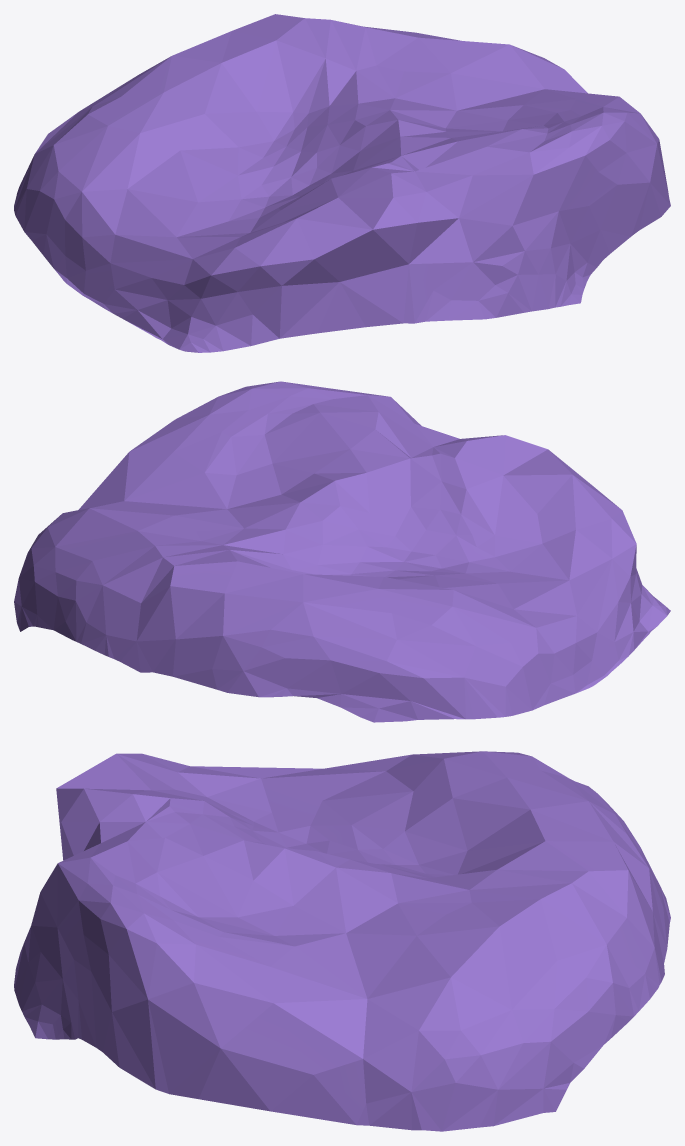
File: ground_012.fbx
3 views of the same model, one above another, from view 1: azimuth 30°, elevation 25°; view 2: azimuth 150°, elevation 25°; view 3: azimuth 270°, elevation 25° (orthographic). The views are drawn at different scales.
Visible parts, largest first — view 1: ground.012; view 2: ground.012; view 3: ground.012.
Boxes of the visible parts, x1,y1,x2,y2 form: ground.012: (14, 14, 670, 352); ground.012: (14, 381, 670, 722); ground.012: (14, 751, 670, 1131).
Bounding box in the file's own units: 2544 × 623 × 2226.
Materials: 1 (1 with a texture image).
